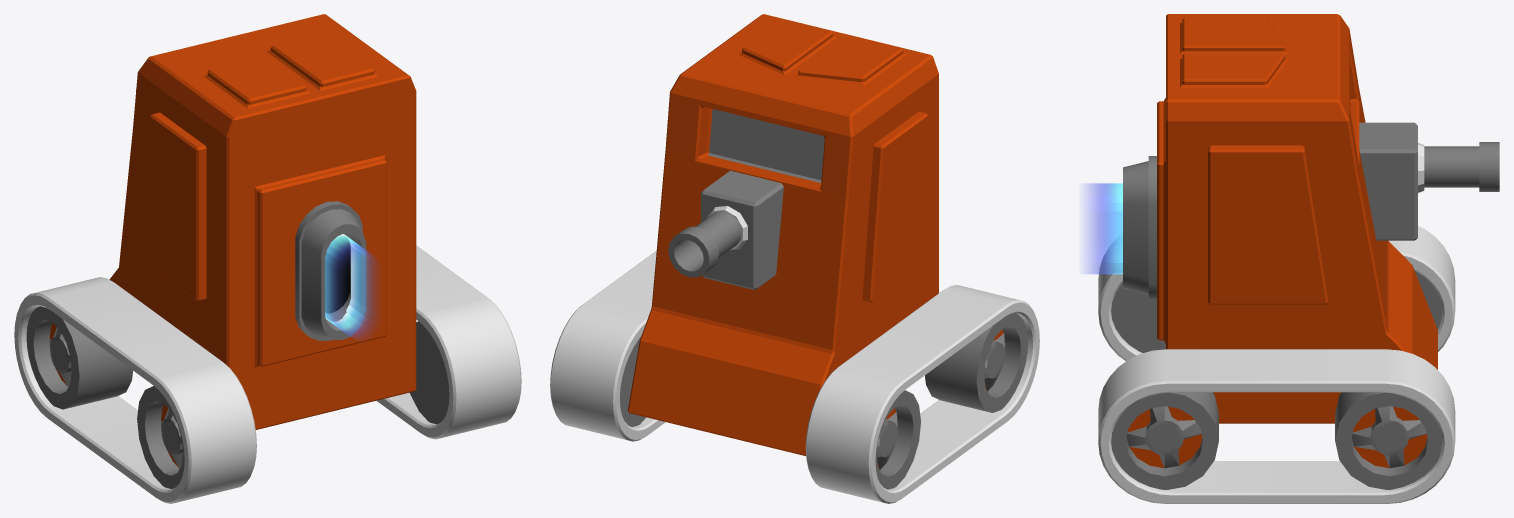
The model's file is tank-01.glb.
3 views of the same model, side by side, from view 1: azimuth 30°, elevation 25°; view 2: azimuth 150°, elevation 25°; view 3: azimuth 270°, elevation 25° (orthographic). The views are drawn at different scales.
Visible parts, largest first — view 1: Body, Tracks-R, Tracks-L, Cylinder, Wheel-FL, boost-fire, Wheel-BL, Wheel-FR; view 2: Body, Tracks-R, Tracks-L, Weapon-Laser, Wheel-BL, Wheel-FL, Weapon-Cannon, Wheel-BR; view 3: Body, Tracks-L, Wheel-FR, Wheel-BR, Weapon-Laser, Tracks-R, Cylinder, boost-fire, Weapon-Cannon, Wheel-BL, Wheel-FL.
Part boxes in pixels (bbox=[...]): Body: bbox=[109, 14, 416, 429]; Tracks-R: bbox=[14, 277, 256, 503]; Tracks-L: bbox=[376, 245, 521, 439]; Cylinder: bbox=[295, 201, 366, 341]; Wheel-FL: bbox=[26, 306, 132, 409]; boost-fire: bbox=[325, 234, 376, 338]; Wheel-BL: bbox=[137, 386, 184, 488]; Wheel-FR: bbox=[410, 321, 449, 424]; Body: bbox=[628, 14, 938, 455]; Tracks-R: bbox=[805, 285, 1039, 503]; Tracks-L: bbox=[550, 251, 665, 441]; Weapon-Laser: bbox=[701, 170, 783, 289]; Wheel-BL: bbox=[925, 313, 1028, 412]; Wheel-FL: bbox=[875, 390, 920, 489]; Weapon-Cannon: bbox=[668, 211, 741, 277]; Wheel-BR: bbox=[620, 336, 645, 426]; Body: bbox=[1157, 14, 1437, 423]; Tracks-L: bbox=[1098, 349, 1455, 503]; Wheel-FR: bbox=[1111, 392, 1218, 489]; Wheel-BR: bbox=[1335, 392, 1442, 489]; Weapon-Laser: bbox=[1359, 122, 1424, 240]; Tracks-R: bbox=[1098, 226, 1455, 360]; Cylinder: bbox=[1123, 156, 1156, 299]; boost-fire: bbox=[1084, 183, 1122, 274]; Weapon-Cannon: bbox=[1424, 142, 1499, 191]; Wheel-BL: bbox=[1111, 283, 1165, 352]; Wheel-FL: bbox=[1414, 270, 1442, 328].
Bounding box in the file's own units: 3.51 × 3.72 × 3.89.
Materials: 5 (1 with a texture image).
